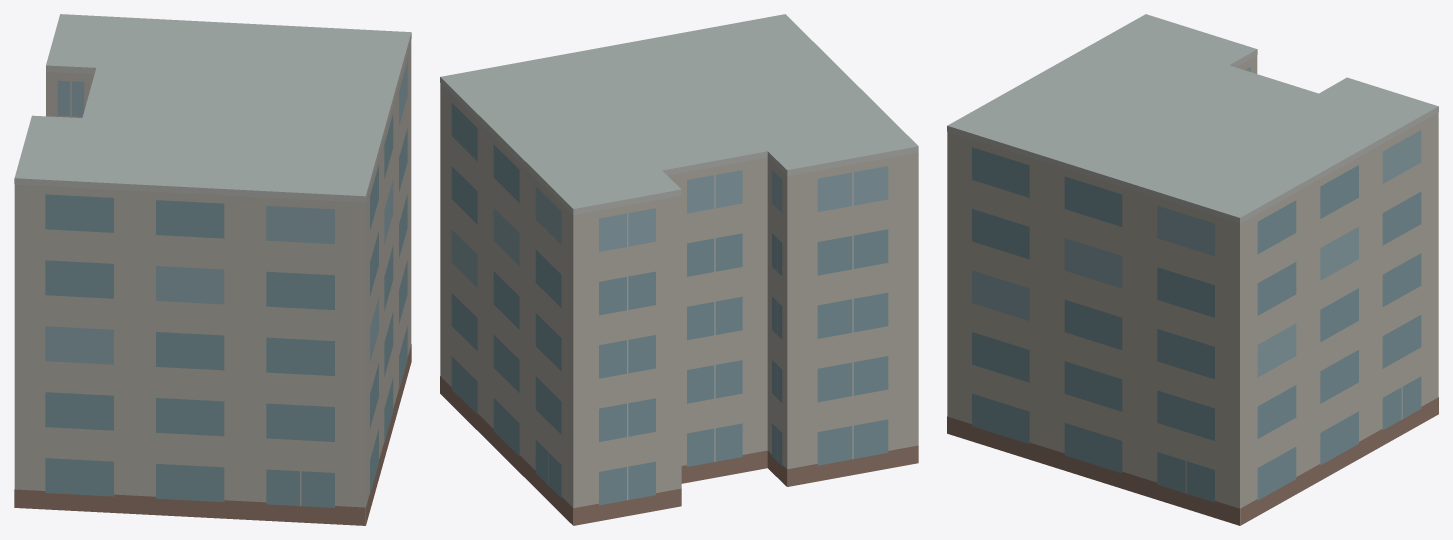
File: survey-upis-32717275.glb
The picture shows the model from 3 angles, left to right: view 1: azimuth 30°, elevation 25°; view 2: azimuth 150°, elevation 25°; view 3: azimuth 270°, elevation 25°; orthographic projection. The views are drawn at different scales.
Visible parts, largest first — view 1: survey-upis-32717275.tmp; view 2: survey-upis-32717275.tmp; view 3: survey-upis-32717275.tmp.
Boxes of the visible parts, x1,y1,x2,y2 form: survey-upis-32717275.tmp: [14, 14, 411, 525]; survey-upis-32717275.tmp: [440, 14, 918, 525]; survey-upis-32717275.tmp: [947, 14, 1438, 525].
Size of the model in its own units: 18.16 by 12.78 by 18.5.
